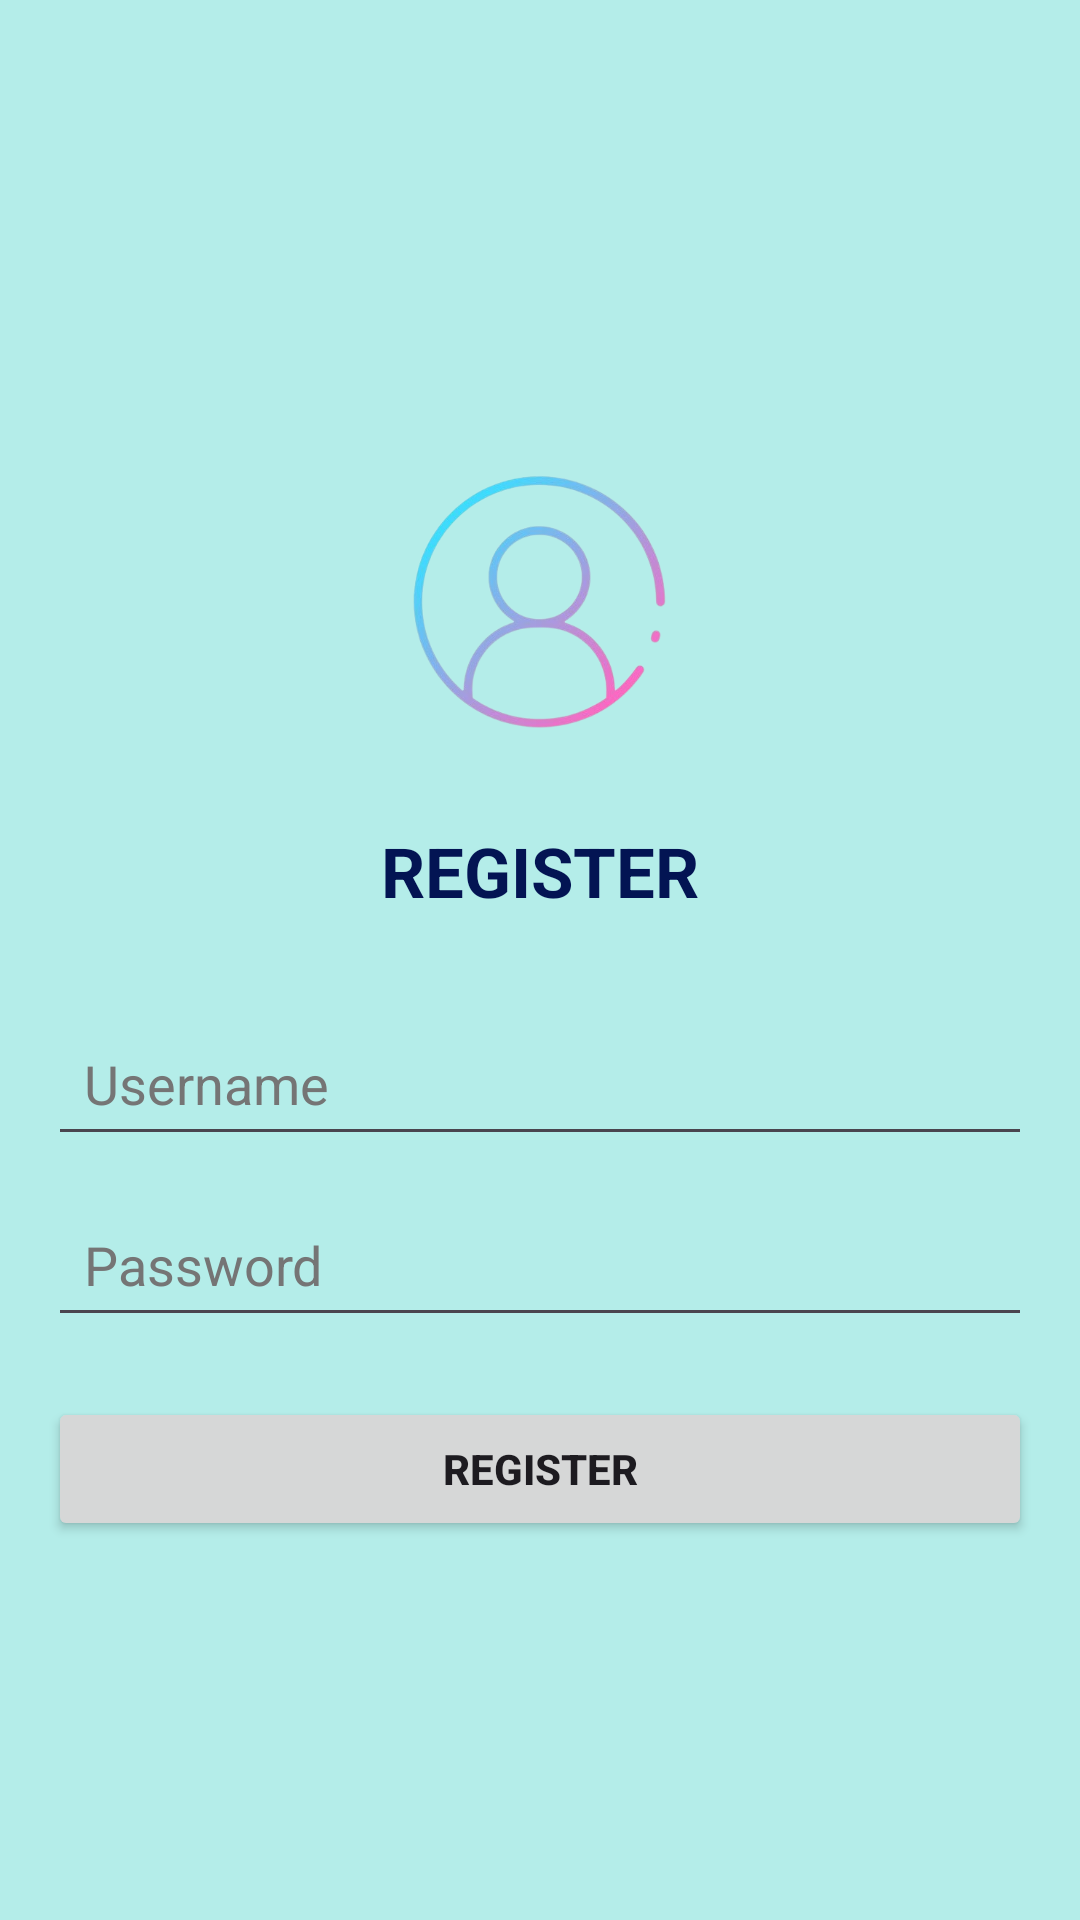

Named icons in this screenshot (1080 × 1920) and their centers, (x=x, y=y):
login: (x=539, y=602)
